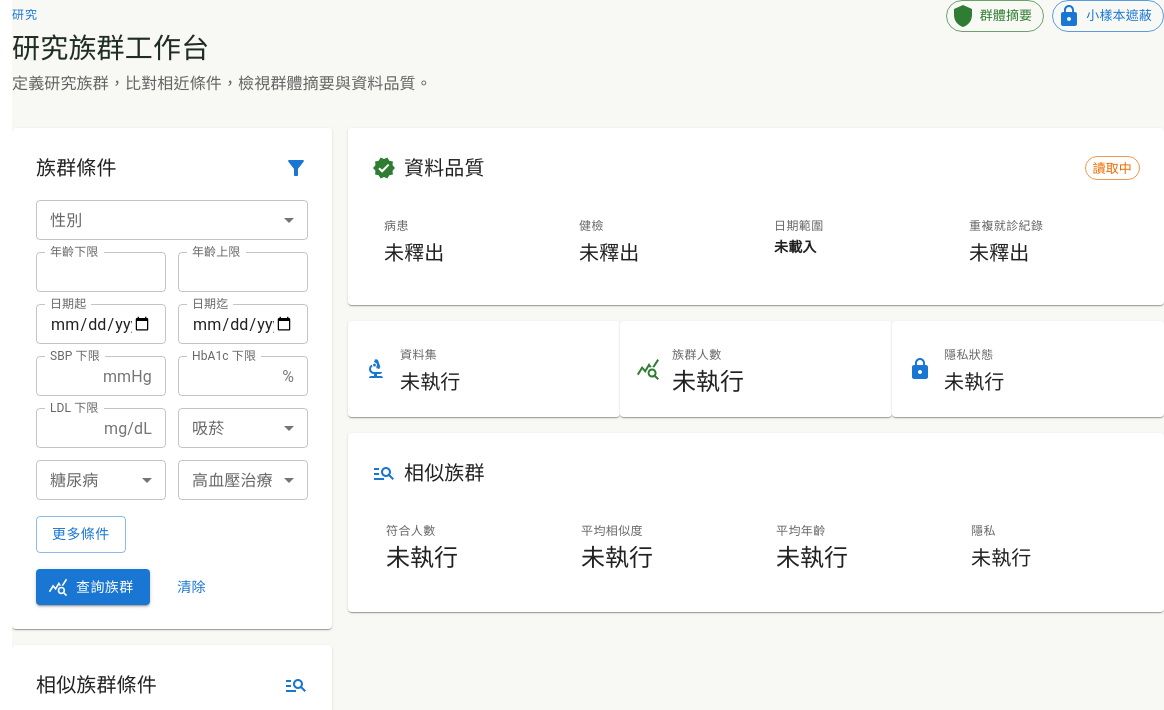
editing cohort criteria invalidates results and rejects late responses
This screenshot has width=1164, height=710.
Step 1. Click the button "查詢族群" → {"x": 93, "y": 587}, box [36,569,150,606]
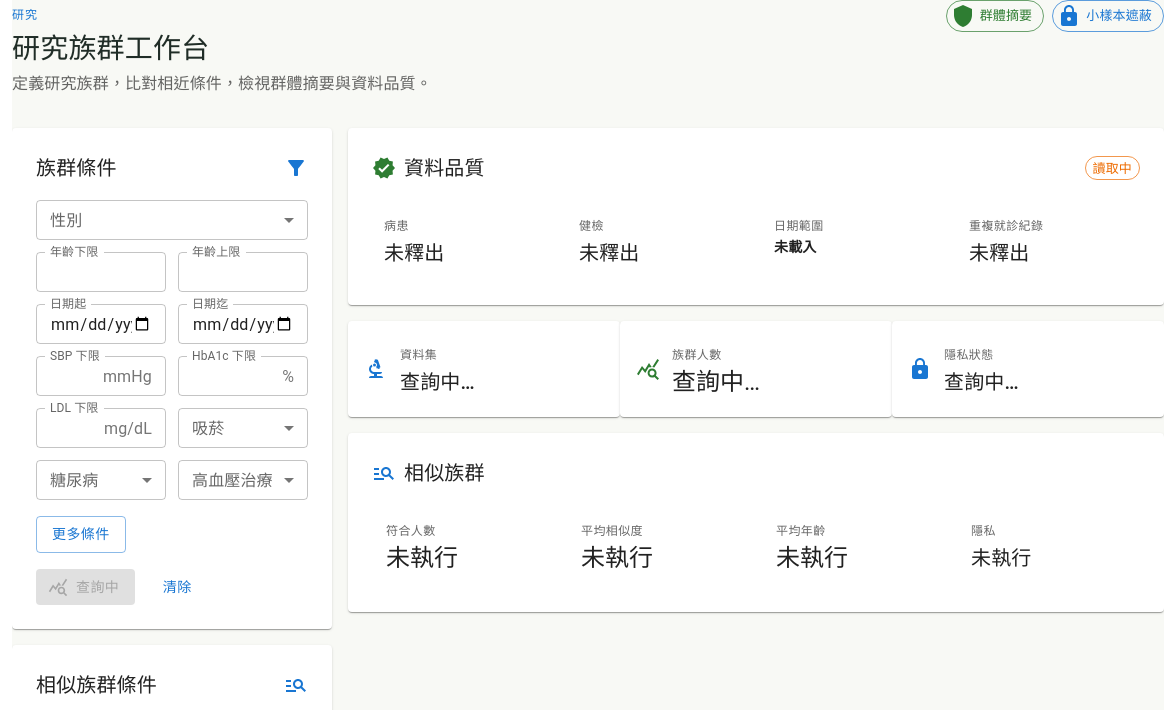
Expected: the text "查詢中…" is shown 3 times, [400,366,475,398]; [672,366,760,398]; [944,366,1019,398]
Step 2. Type "40" into the number field labelled "年齡下限" → {"x": 101, "y": 272}, box [36,252,166,292]
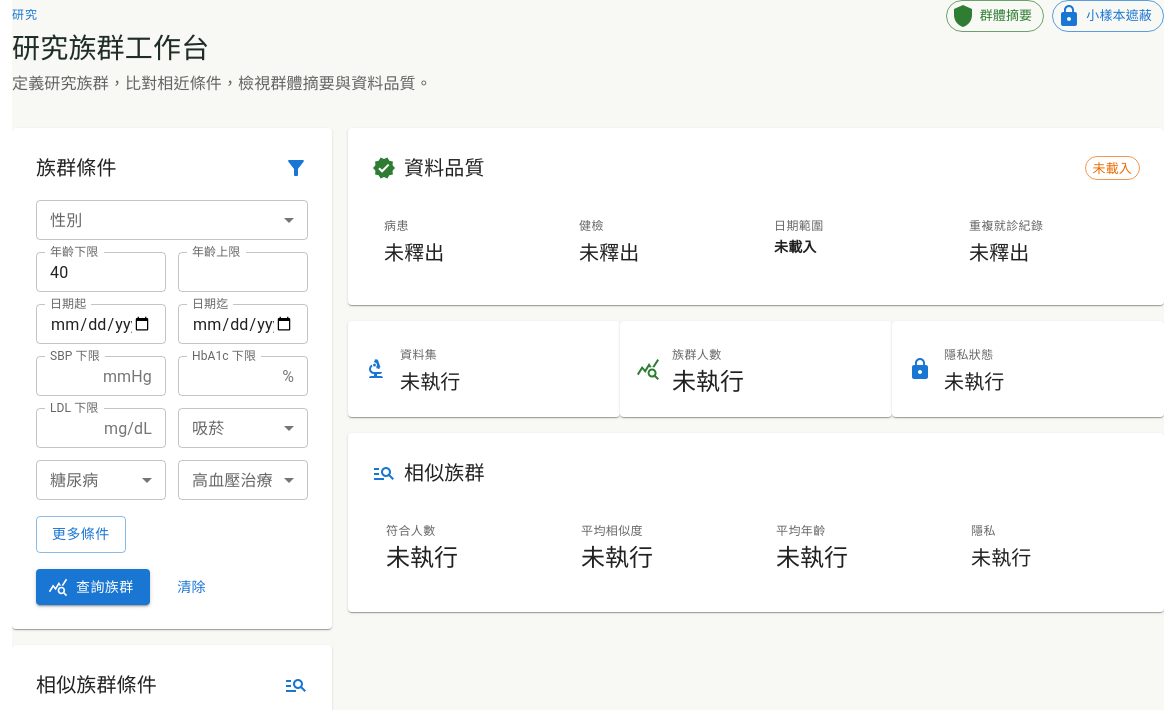
Now the button "查詢族群" is enabled, box [36,569,150,606]
